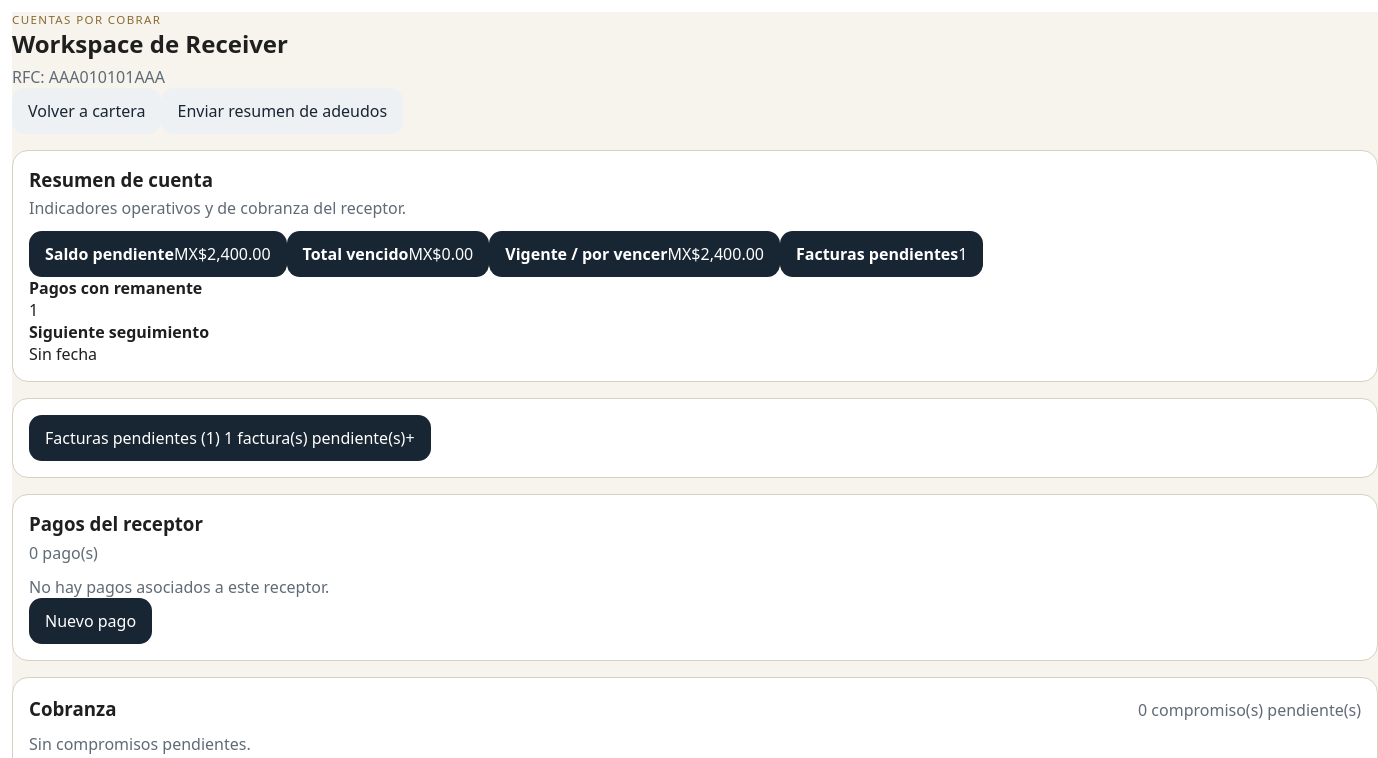
Test: AccountsReceivablePageComponent › shows an empty state when the overdue workspace filter has no results
Click the button with class "summary-card-action" showing "Total vencido MX$0.00": x=388, y=254 x1=287 y1=231 x2=489 y2=277
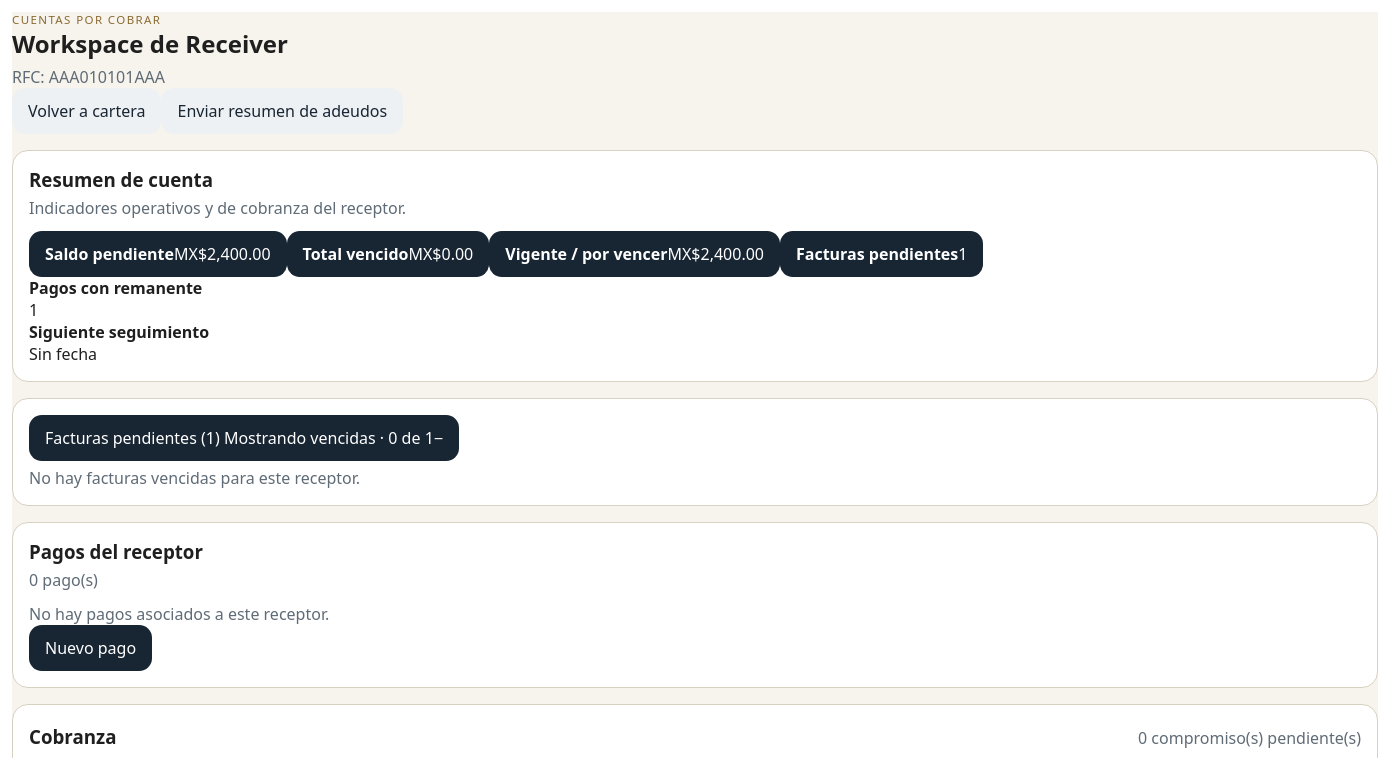
Expected: the text "No hay facturas vencidas para este receptor." is shown, x1=29 y1=467 x2=360 y2=489
